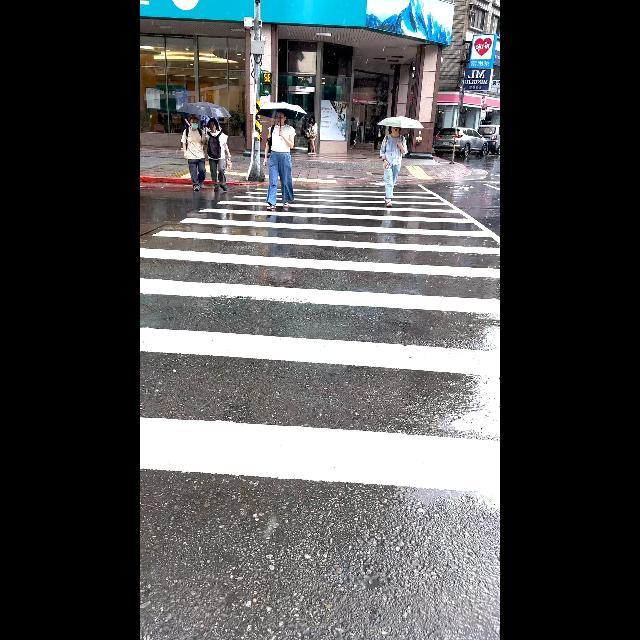sidewalk: (141, 177, 500, 499)
